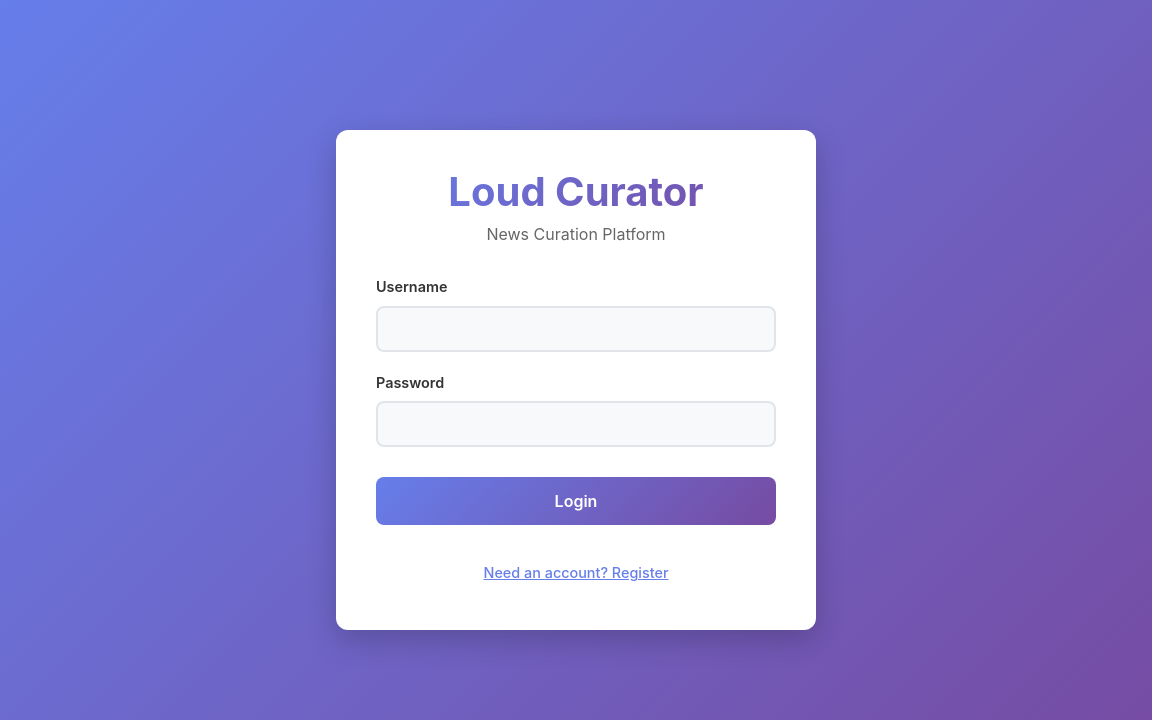
Test: Login Component › Login Functionality › handles login error
This screenshot has width=1152, height=720.
In the field labelled "Username": coordinates (576, 329) [376,306,776,352], type "testuser"
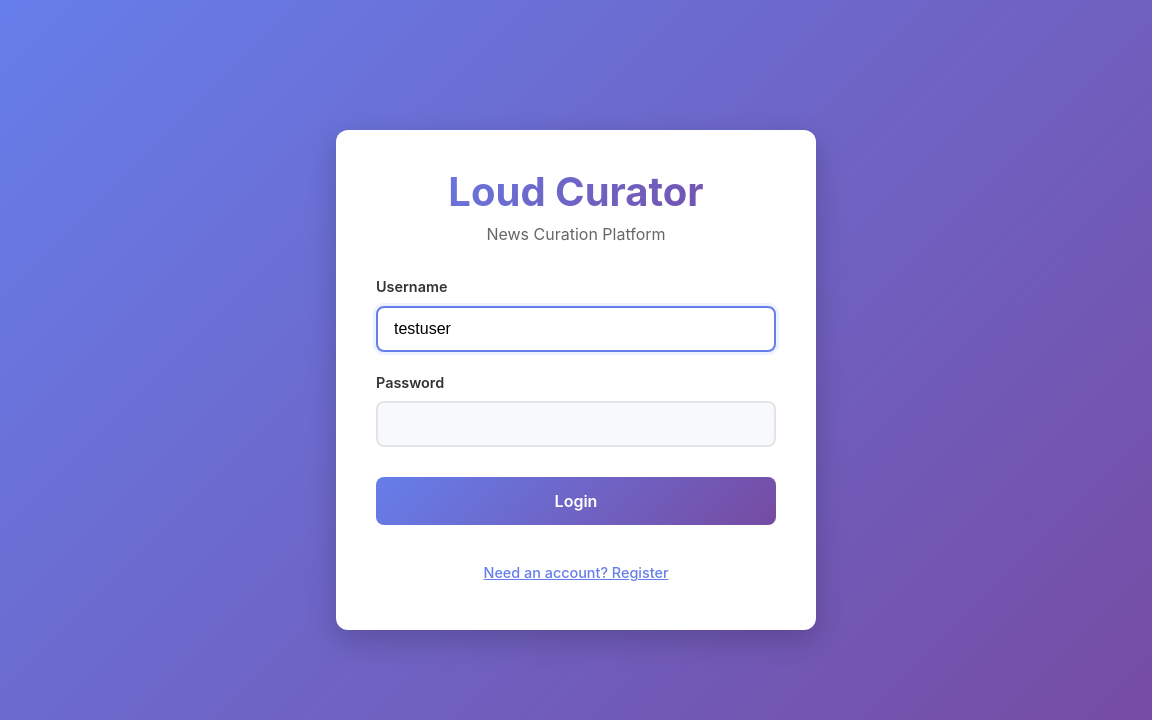
In the password field labelled "Password": coordinates (576, 424) [376,402,776,448], type "wrongpass"
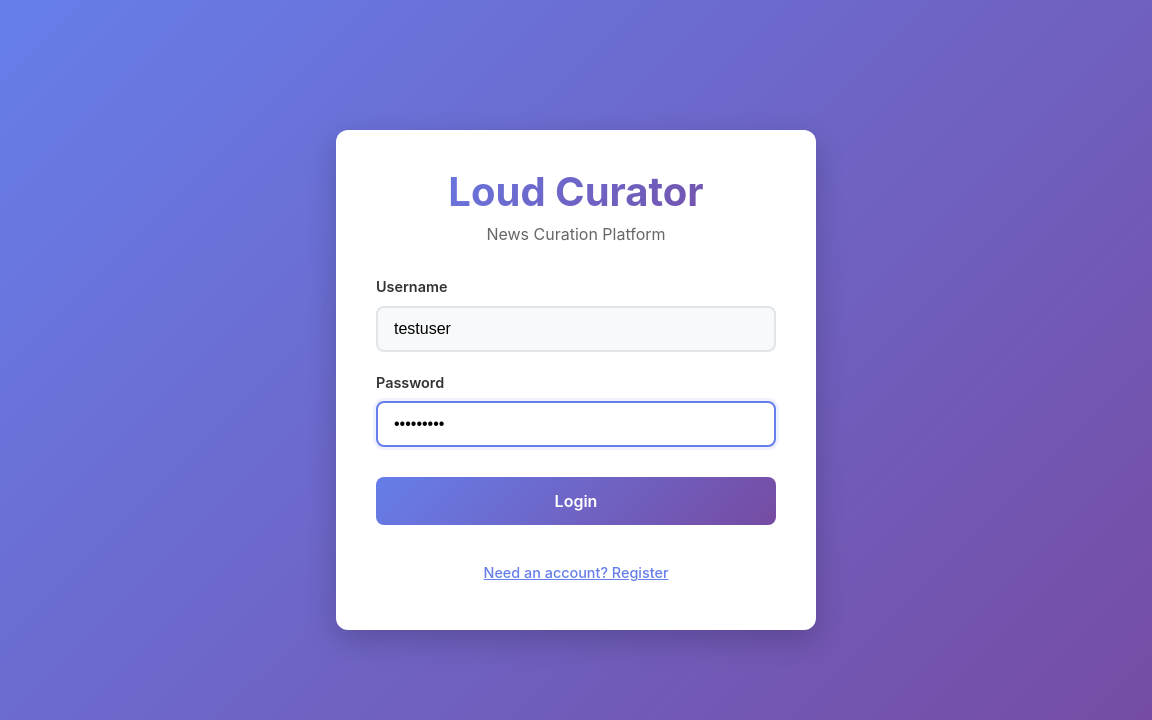
Click the button "Login": coordinates (576, 502) [376,478,776,526]
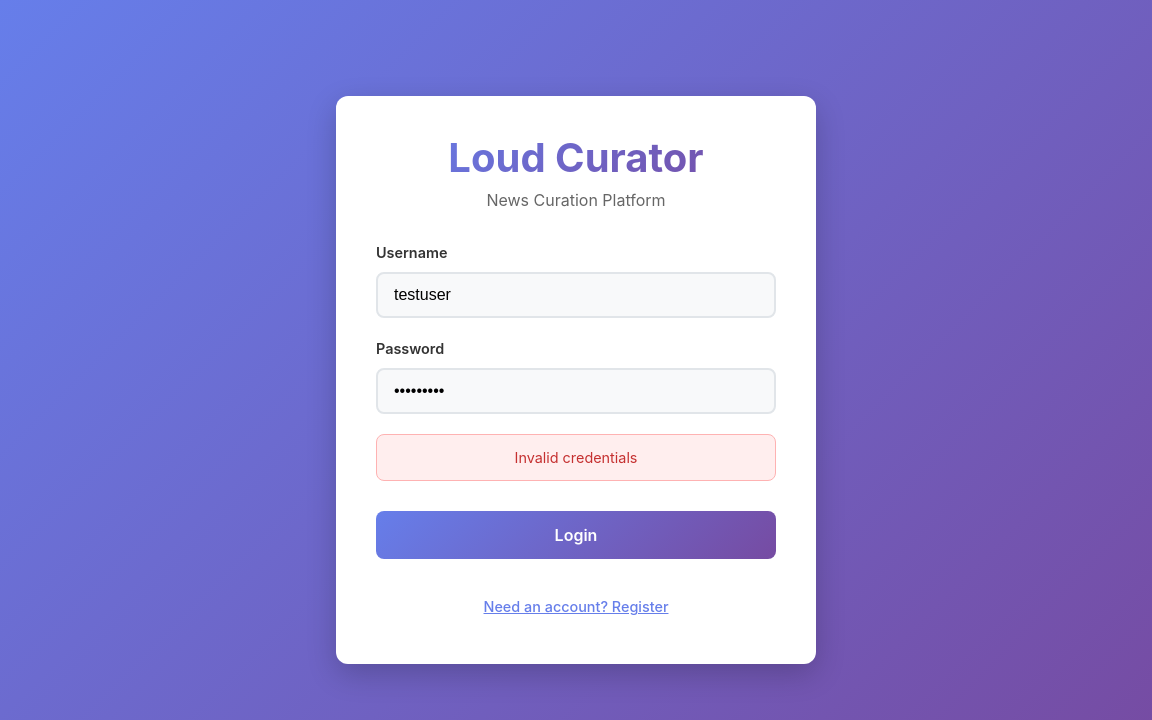
expect the text "Invalid credentials" is shown: met, box [376,434,776,481]
